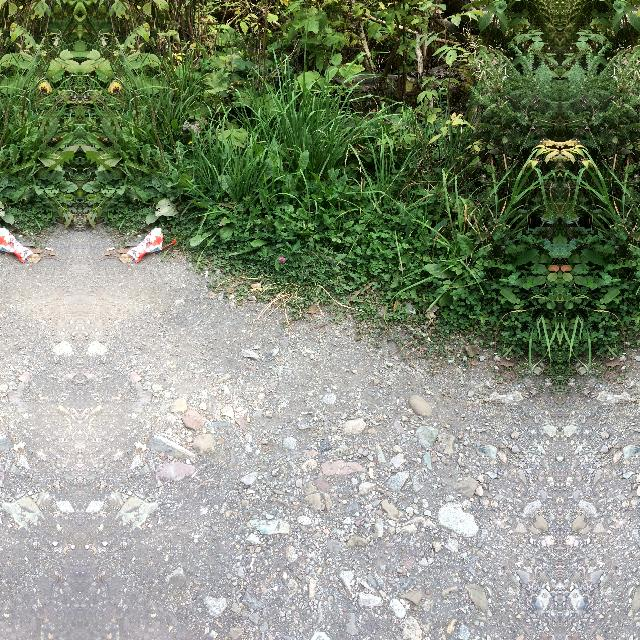Plastic: (126, 226, 180, 264), (0, 225, 34, 264)
